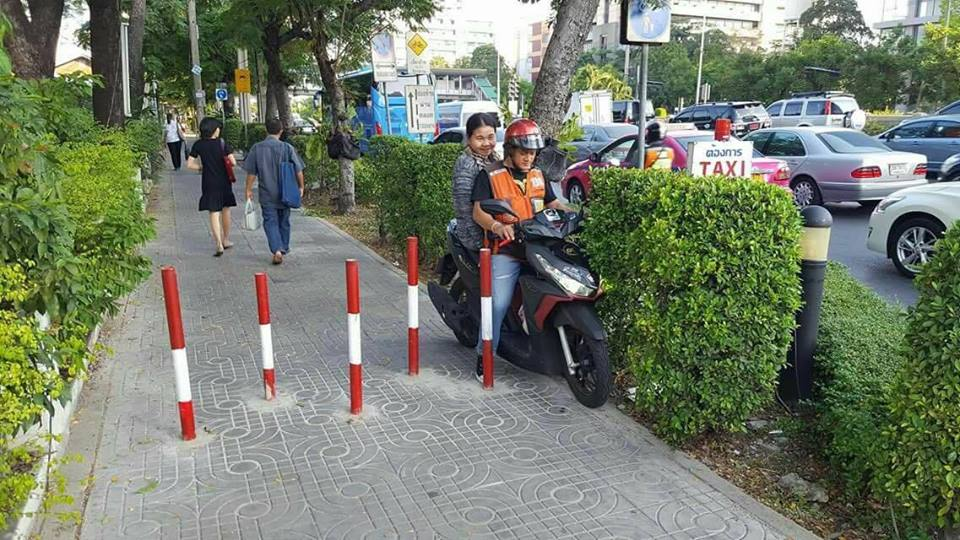helmet: (499, 115, 549, 153), (642, 117, 674, 148)
motorcycle: (426, 201, 625, 410)
